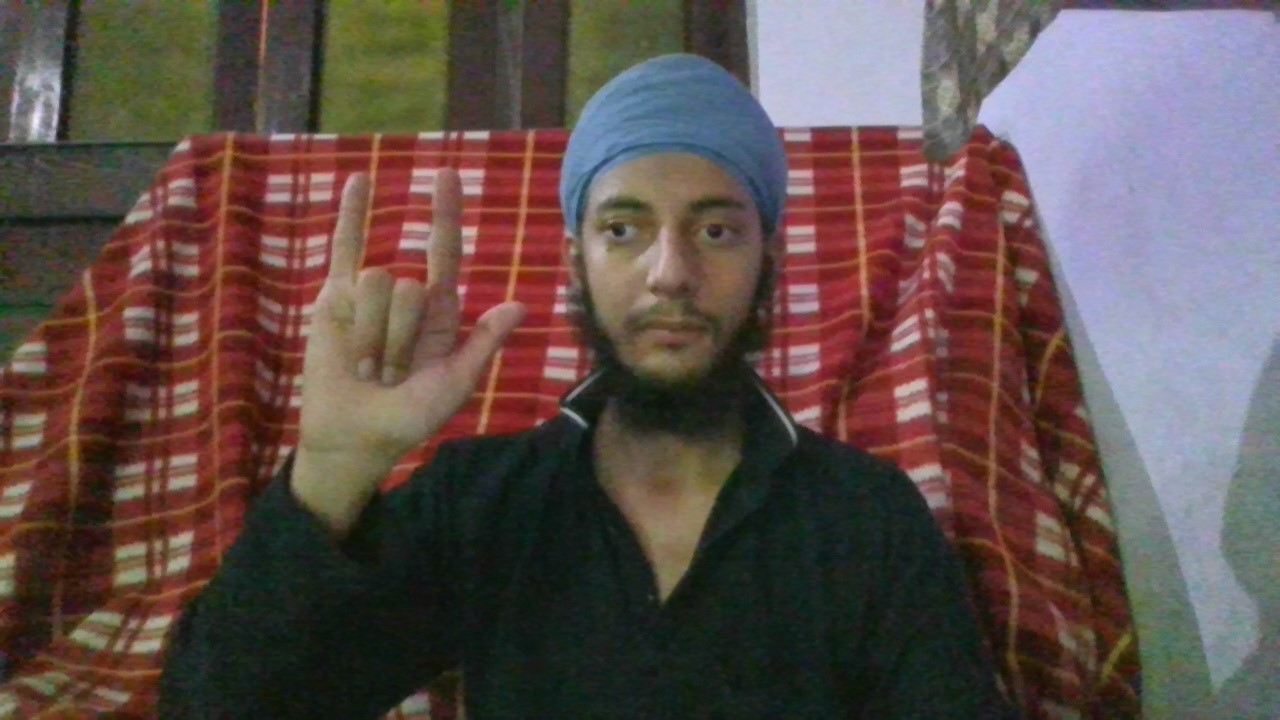I Love You: (295, 168, 530, 446)
